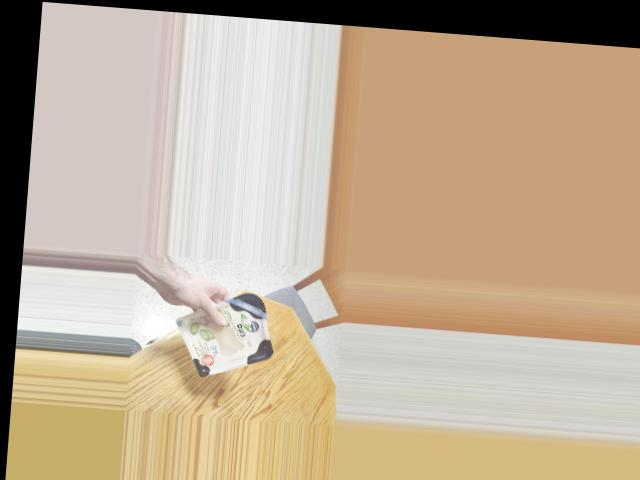cheese: (188, 292, 281, 378)
